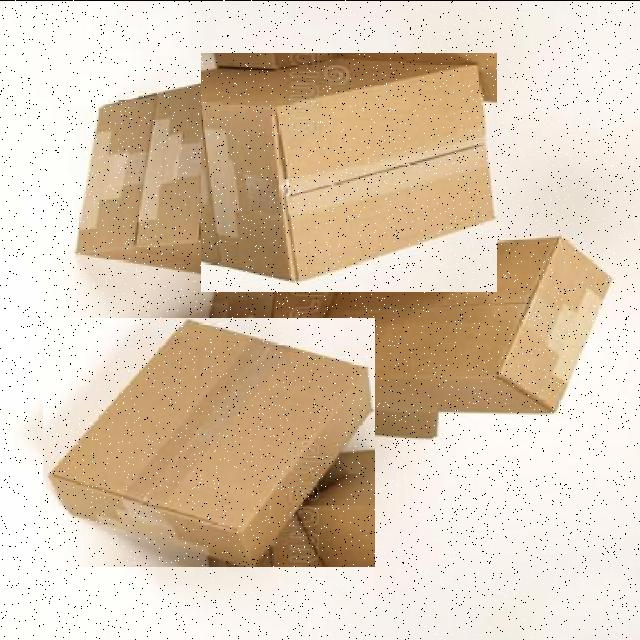normal: (43, 317, 375, 566), (201, 52, 497, 291)
